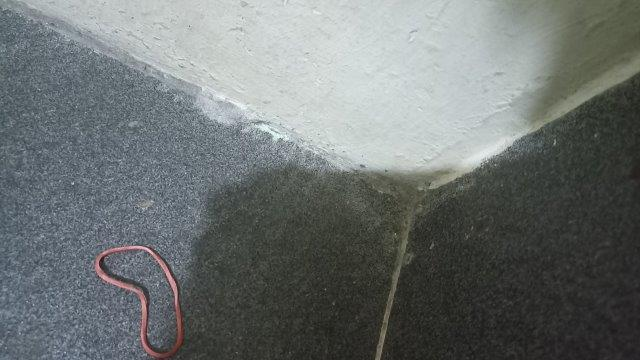karet: (95, 245, 184, 360)
